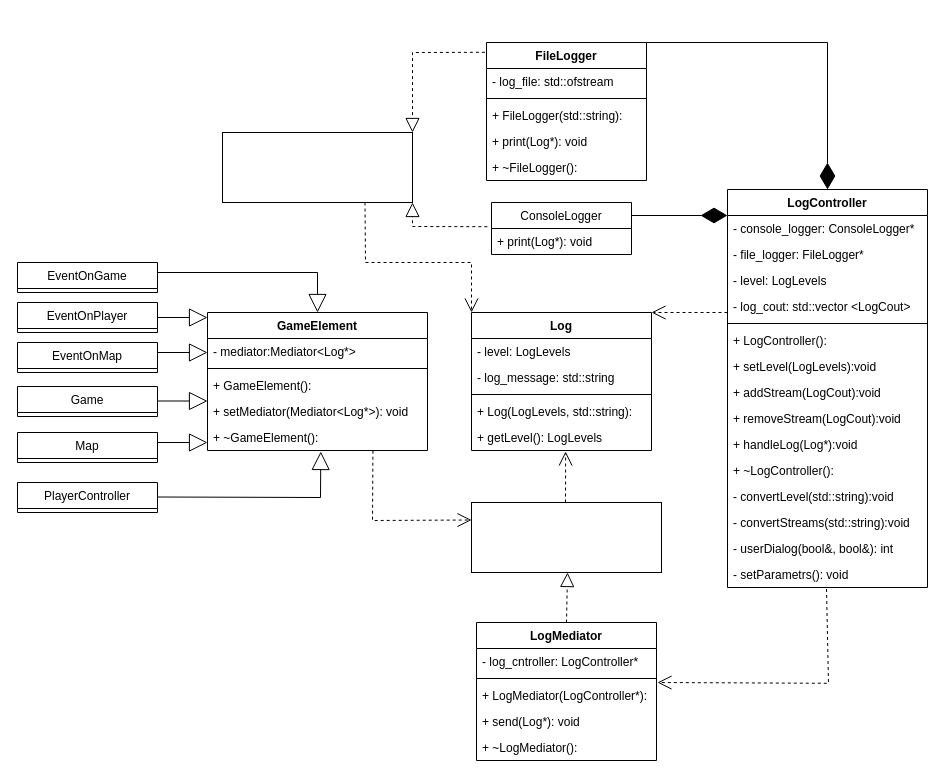
Some shapes in this 945 by 781 pixel diagram are drawn without their labels. Here are the shapes that lost their labels. From the top down, the centre of each, then its label:
At (317,167): "<<Interface>> Logger + print(Log*): void".
At (566,537): "<<Interface>> Mediator + send(Log*): void".
